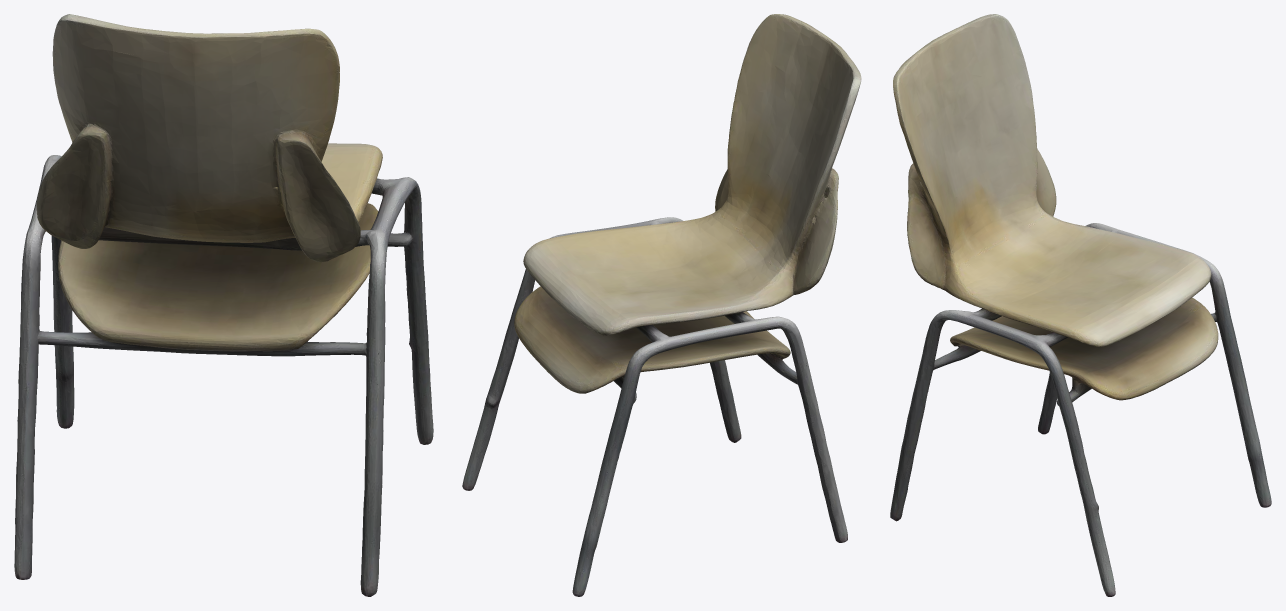
Rendered from stack_of_grey_chairs_against_back_wall_000.glb.
The picture shows the model from 3 angles, left to right: view 1: azimuth 30°, elevation 25°; view 2: azimuth 150°, elevation 25°; view 3: azimuth 270°, elevation 25°; orthographic projection. The views are drawn at different scales.
Visible parts, largest first — view 1: phase2_final_stack_of_grey_chairs_against_back_wall_000.obj; view 2: phase2_final_stack_of_grey_chairs_against_back_wall_000.obj; view 3: phase2_final_stack_of_grey_chairs_against_back_wall_000.obj.
Part boxes in pixels (x1,y1,x2,y2): phase2_final_stack_of_grey_chairs_against_back_wall_000.obj: [14, 14, 433, 596]; phase2_final_stack_of_grey_chairs_against_back_wall_000.obj: [462, 14, 861, 596]; phase2_final_stack_of_grey_chairs_against_back_wall_000.obj: [890, 14, 1271, 596].
Size of the model in its own units: 0.4436 by 0.5431 by 0.4382.
Materials: 1 (1 with a texture image).
